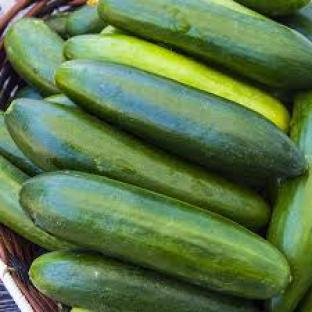Cucumber: (20, 172, 289, 299), (6, 100, 269, 228), (56, 60, 306, 177), (64, 35, 289, 131), (30, 251, 259, 311), (0, 156, 73, 249), (268, 170, 311, 311), (5, 19, 63, 95), (0, 111, 41, 176), (66, 5, 106, 36), (281, 3, 311, 40), (45, 13, 69, 38), (45, 95, 77, 108), (14, 86, 42, 99), (297, 289, 311, 311), (100, 25, 126, 34), (71, 308, 91, 311)
